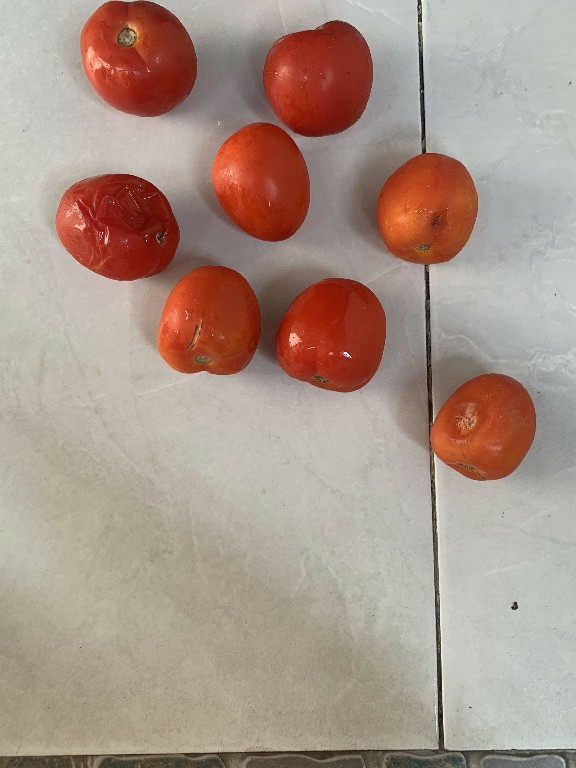NG: (56, 168, 182, 280), (426, 367, 537, 491), (372, 150, 481, 276), (159, 266, 259, 382)
OK: (257, 13, 378, 148), (275, 269, 386, 399), (210, 118, 315, 246), (80, 13, 202, 123)
